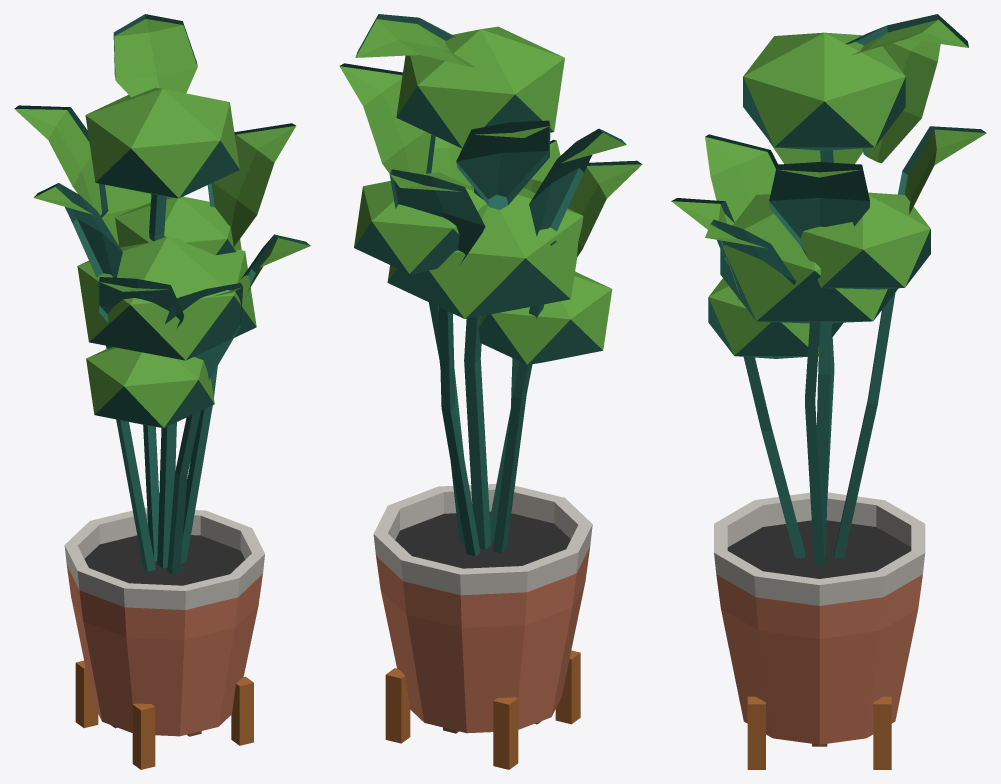
The model's file is kose_bitkisi.glb.
The picture shows the model from 3 angles, left to right: view 1: azimuth 30°, elevation 25°; view 2: azimuth 150°, elevation 25°; view 3: azimuth 270°, elevation 25°; orthographic projection. The views are drawn at different scales.
Parts seen in each view (by area): view 1: kose_bitkisi; view 2: kose_bitkisi; view 3: kose_bitkisi.
Part boxes in pixels (x1,y1,x2,y2): kose_bitkisi: (14,14,310,769); kose_bitkisi: (339,14,642,769); kose_bitkisi: (671,14,986,769).
Size of the model in its own units: 0.6929 by 1.68 by 0.6541.
